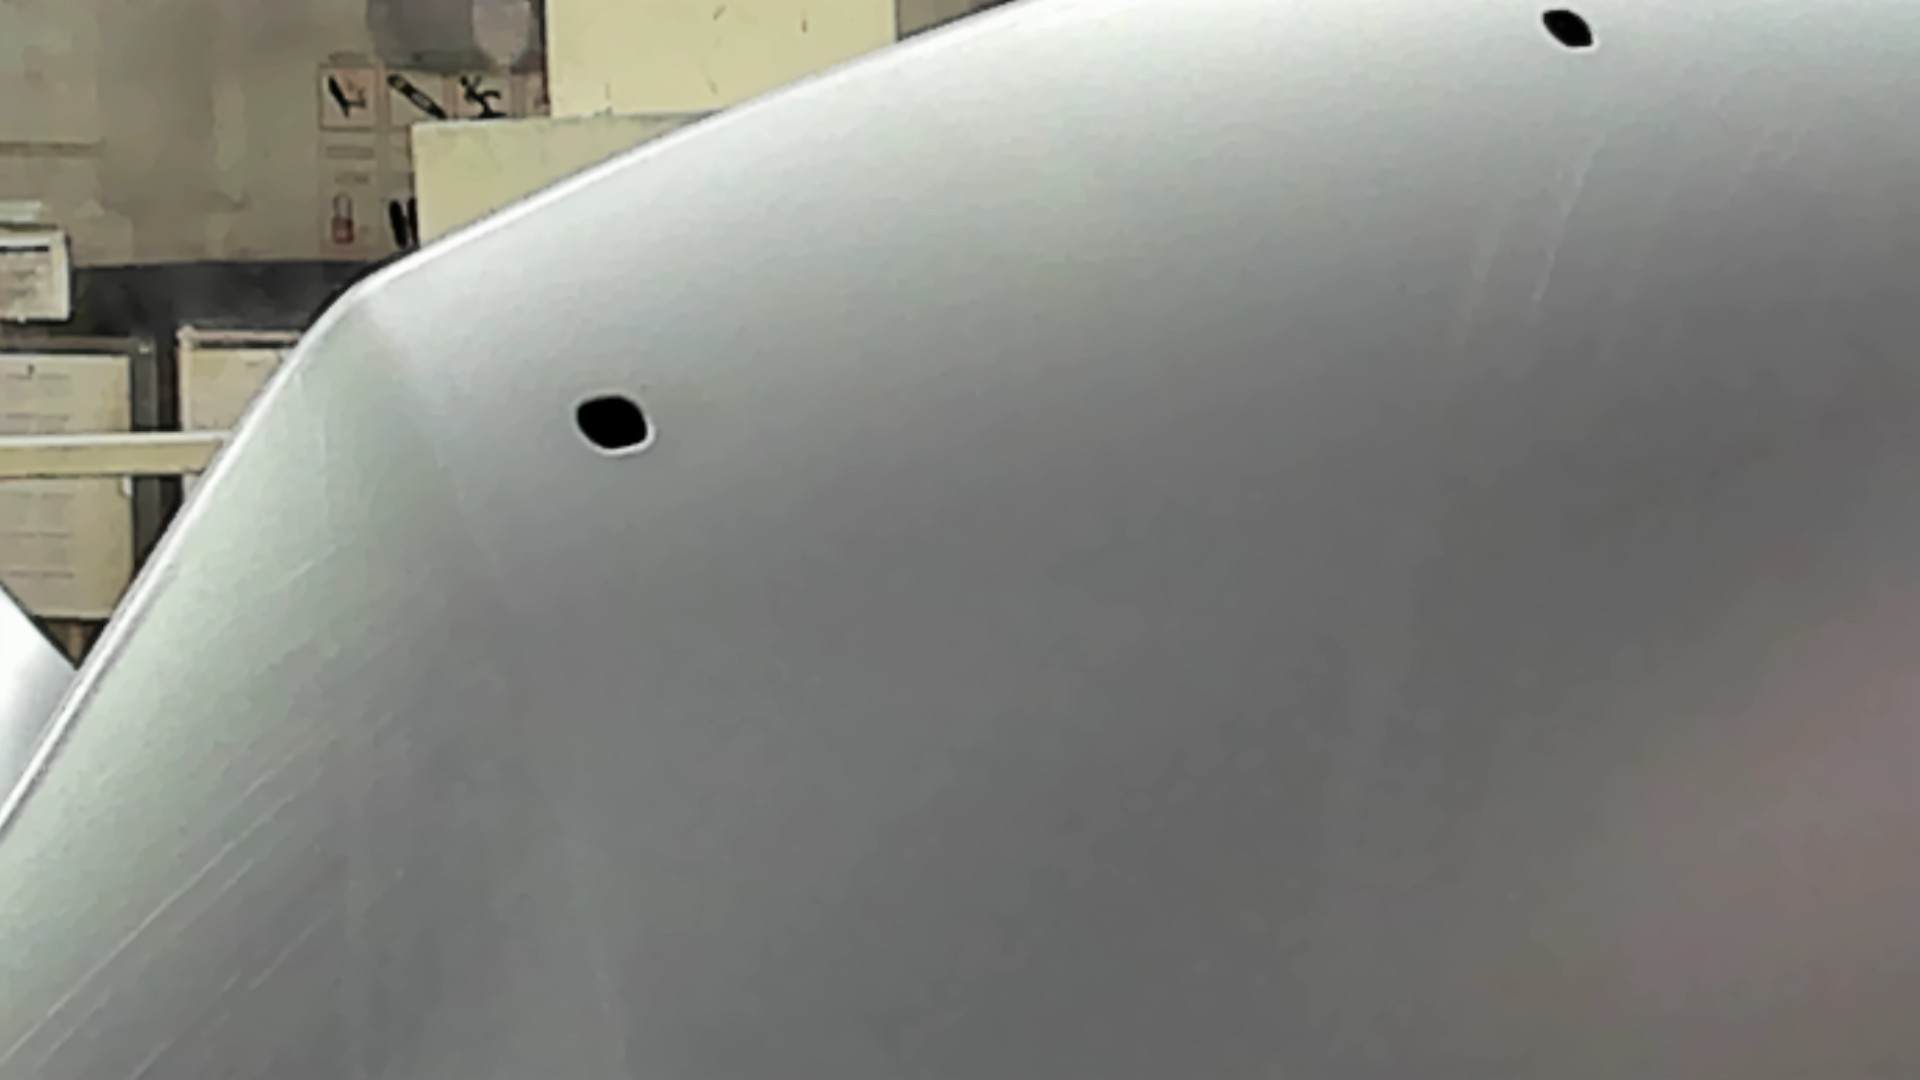amorfo: (566, 390, 661, 456), (1534, 3, 1600, 57)
capo: (694, 142, 1920, 1080)
